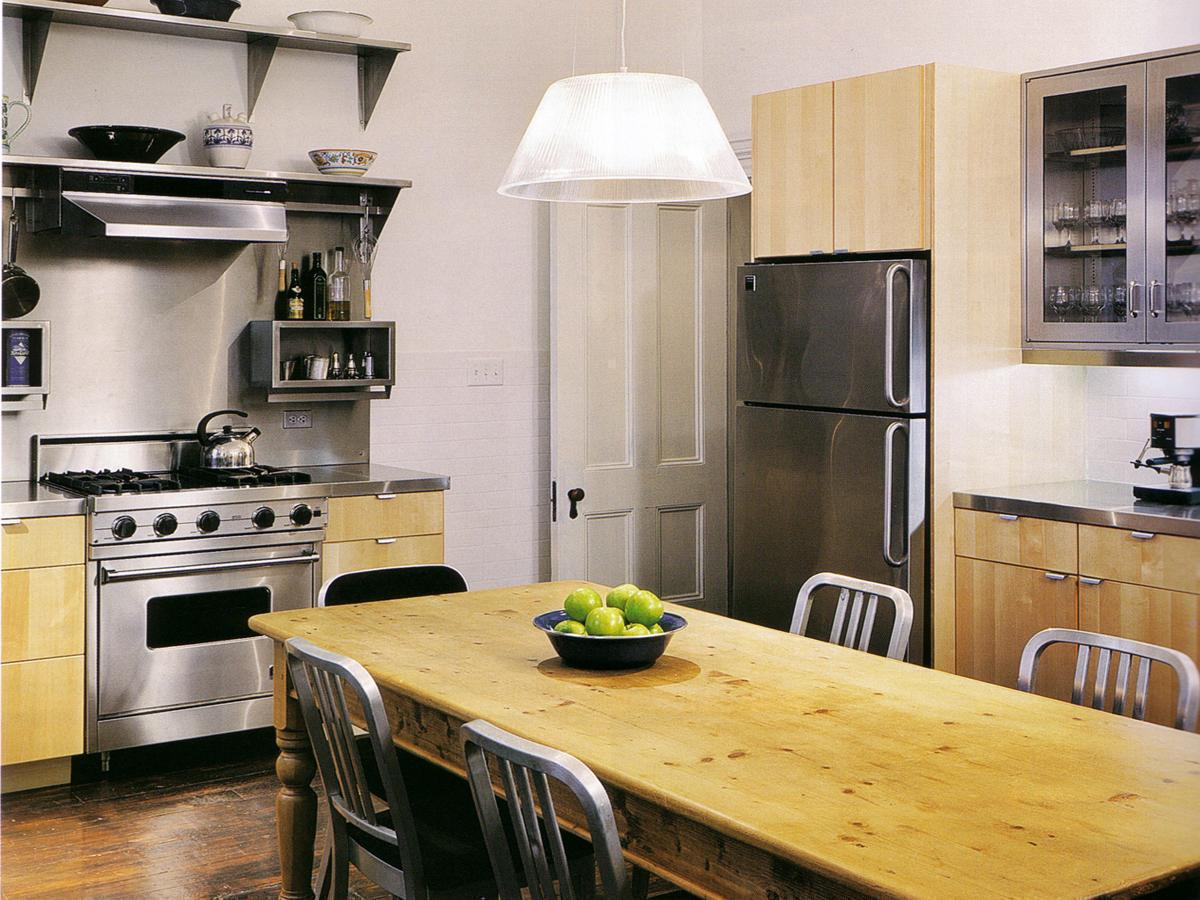Electrodomestico: (736, 271, 924, 637), (88, 493, 320, 605)
